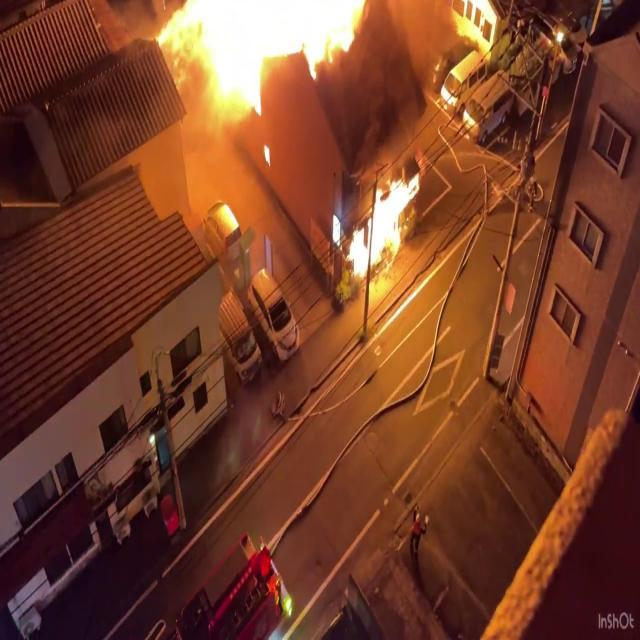Fire: (157, 0, 372, 114), (344, 161, 422, 283)
